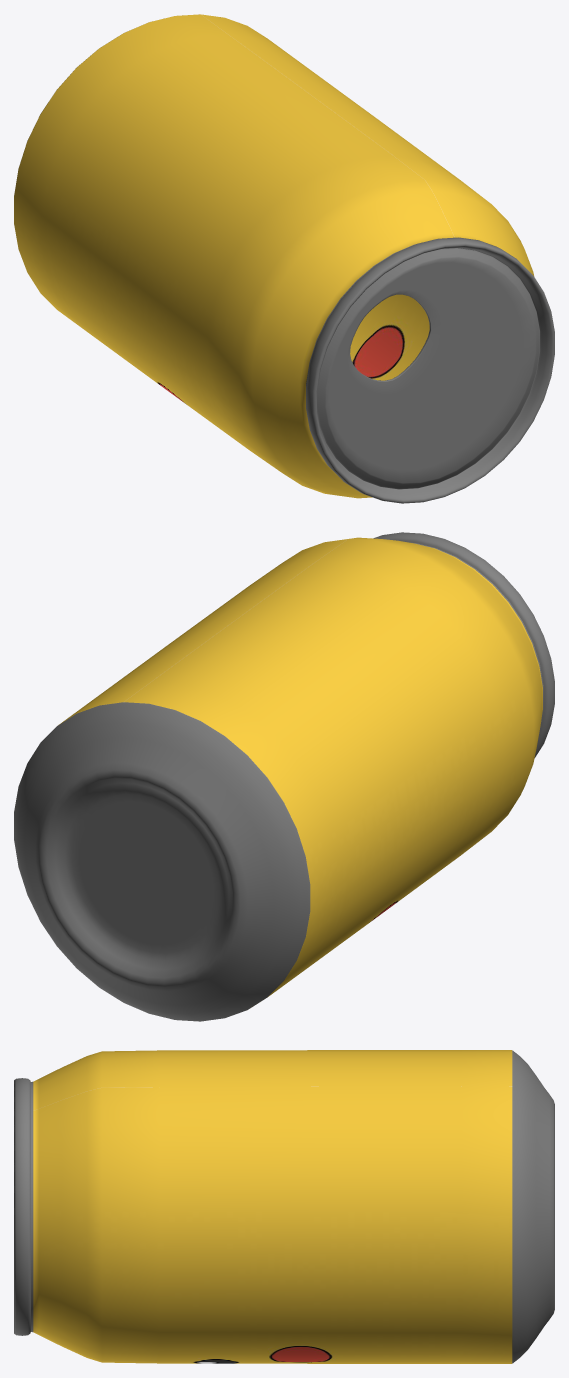
3 views of the same model, one above another, from view 1: azimuth 30°, elevation 25°; view 2: azimuth 150°, elevation 25°; view 3: azimuth 270°, elevation 25° (orthographic). The views are drawn at different scales.
Visible parts, largest first — view 1: tin_high; view 2: tin_high; view 3: tin_high.
Part boxes in pixels (x1=…): tin_high: x1=14, y1=14, x2=554, y2=503; tin_high: x1=14, y1=532, x2=554, y2=1021; tin_high: x1=14, y1=1050, x2=554, y2=1363.
Bounding box in the file's own units: 12.12 × 12.12 × 20.98.
Materials: 2 (1 with a texture image).
